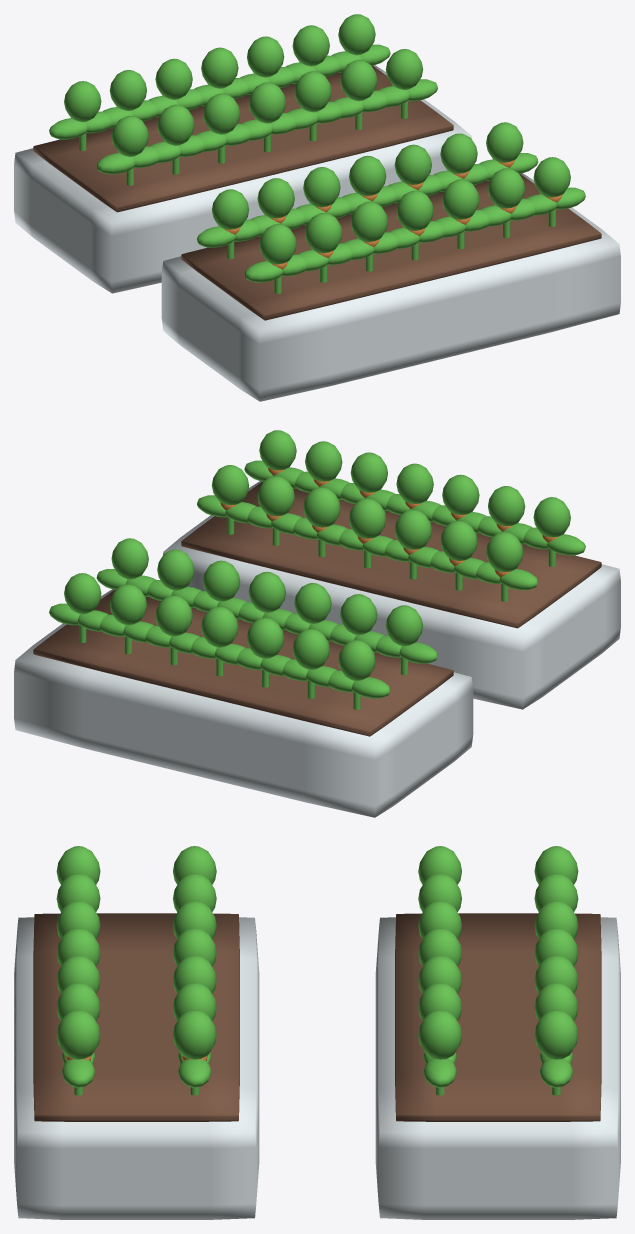
File: huerto.glb
3 views of the same model, one above another, from view 1: azimuth 30°, elevation 25°; view 2: azimuth 150°, elevation 25°; view 3: azimuth 270°, elevation 25° (orthographic). The views are drawn at different scales.
Visible parts, largest first — view 1: Blanco, Verde, Tierra, Naranja; view 2: Blanco, Verde, Tierra, Naranja; view 3: Blanco, Tierra, Verde.
Part boxes in pixels (x1,y1,x2,y2): Blanco: [14, 65, 620, 401]; Verde: [49, 14, 585, 293]; Tierra: [33, 65, 601, 320]; Naranja: [223, 160, 562, 269]; Blanco: [14, 481, 620, 817]; Verde: [49, 430, 585, 709]; Tierra: [33, 481, 601, 736]; Naranja: [220, 468, 558, 577]; Blanco: [14, 917, 620, 1219]; Tierra: [33, 913, 601, 1121]; Verde: [56, 846, 578, 1095].
Bounding box in the file's own units: 5.8 × 2.29 × 6.82.
